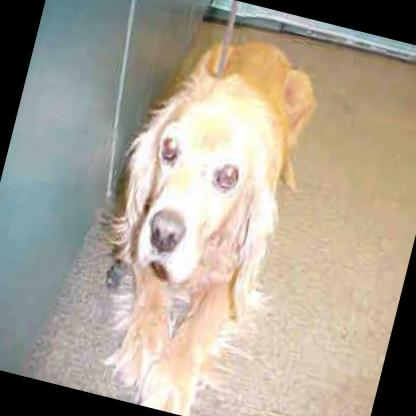cocker_spaniel: (61, 8, 329, 416)
